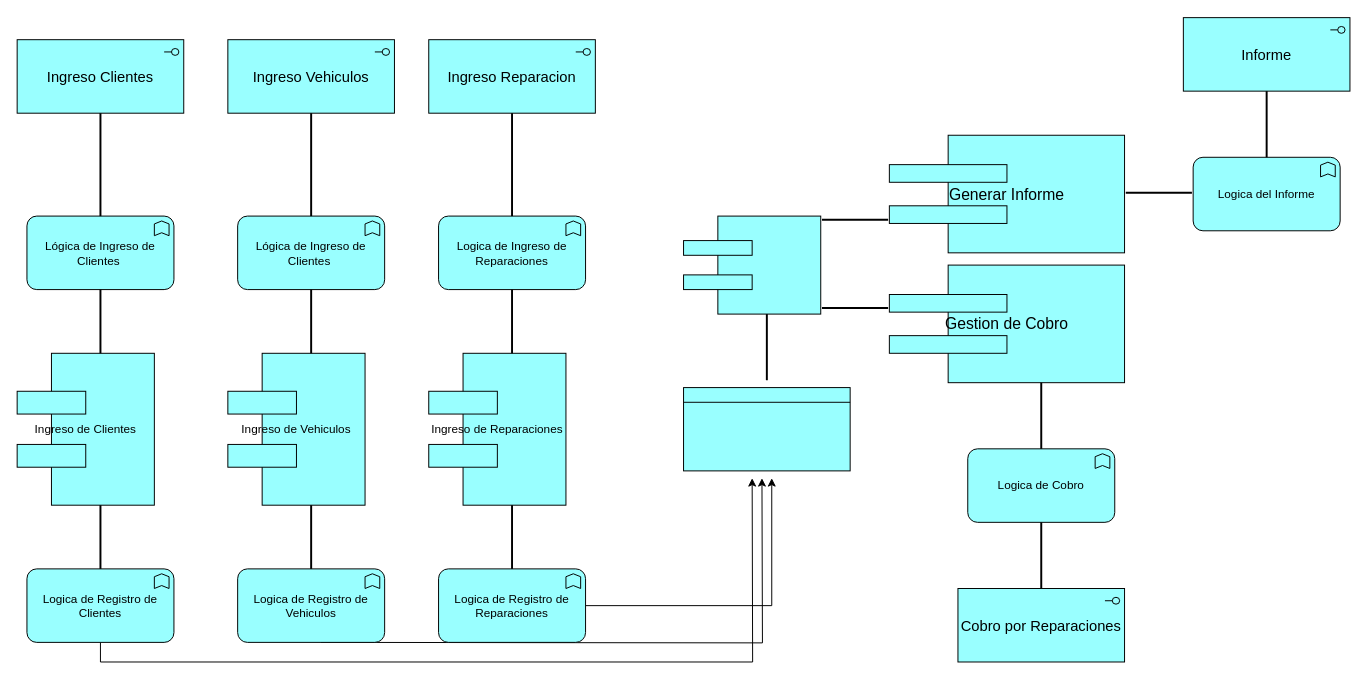
Image size: 1367x687. Some labels were removed from this diagram. The centre of each missing label's shape, as x and y in pixels:
"Base de datos BD del Taller" belongs at (x=766, y=429).
"Programa" belongs at (x=752, y=264).
